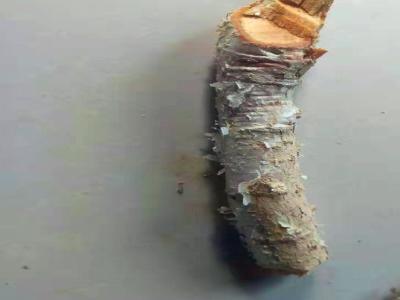Root: (205, 0, 333, 276)
